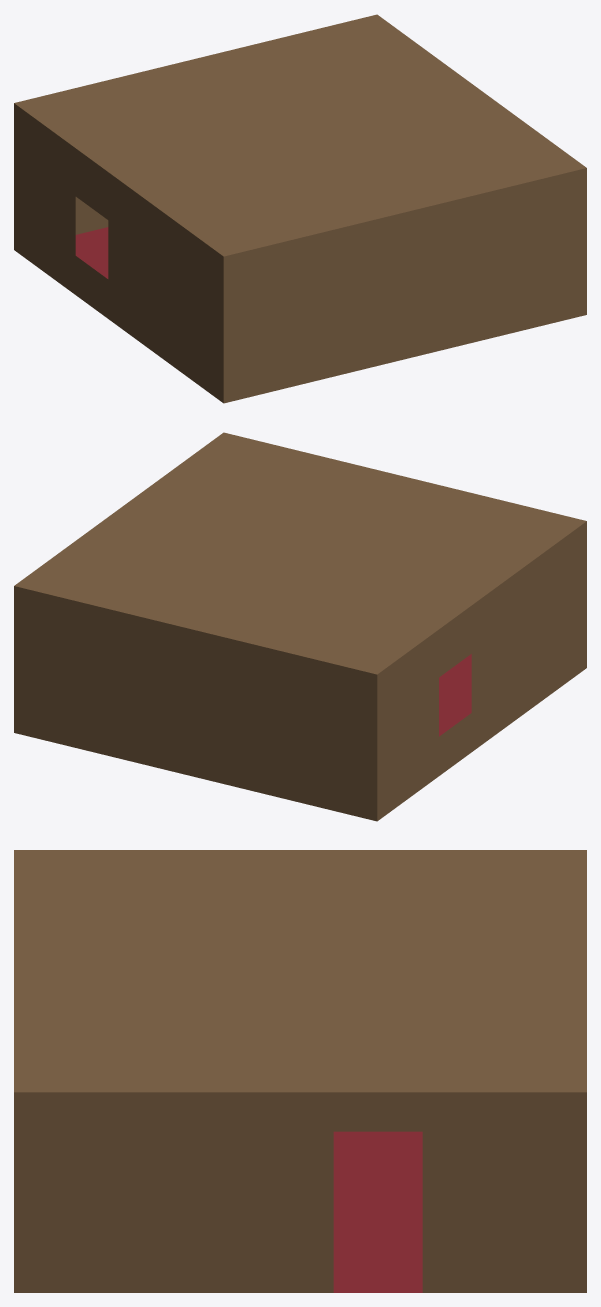
Rendered from Player Room.fbx.
The picture shows the model from 3 angles, top to bottom: view 1: azimuth 30°, elevation 25°; view 2: azimuth 150°, elevation 25°; view 3: azimuth 270°, elevation 25°; orthographic projection. The views are drawn at different scales.
Visible parts, largest first — view 1: Model; view 2: Model; view 3: Model.
Part boxes in pixels (<box>): Model: <box>14,14,586,403</box>; Model: <box>14,432,586,821</box>; Model: <box>14,850,586,1292</box>.
Bounding box in the file's own units: 7.75 × 3 × 7.75.
